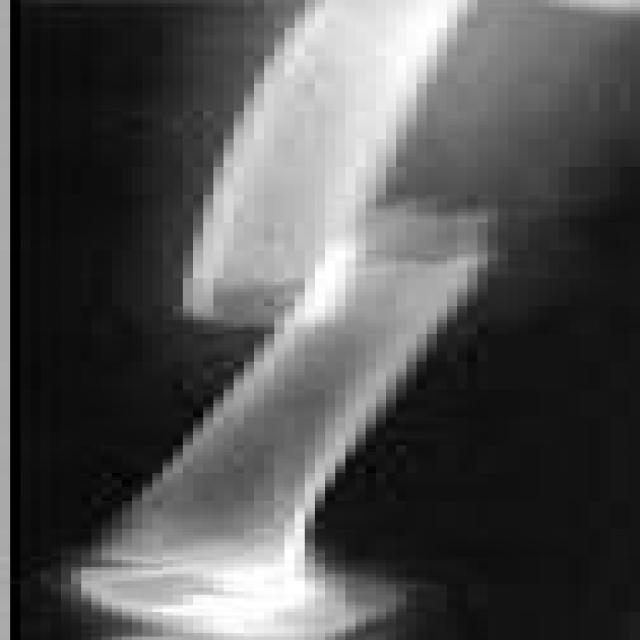Broken: (81, 216, 526, 567), (189, 2, 479, 326)
